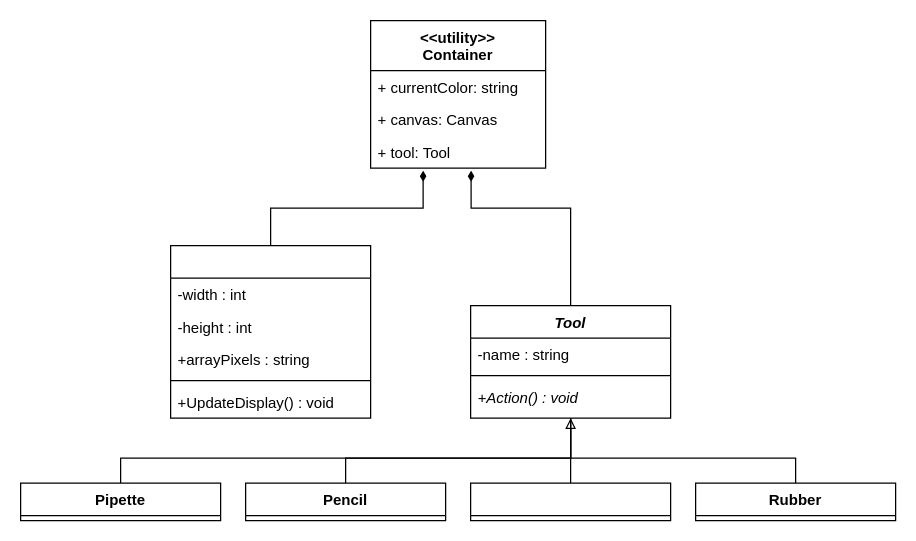
The diagram is 916 pixels wide and 541 high, and some of its shapes have lost their labels. Each missing label, with the box of its shape:
Fill: (469, 482, 671, 521)
Сanvas: (169, 244, 371, 418)
